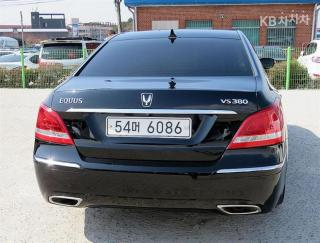0: (156, 120, 165, 135)
4: (123, 120, 132, 135)
5: (114, 120, 123, 133)
6: (146, 120, 156, 135), (174, 121, 184, 135)
8: (165, 120, 174, 136)
plate: (102, 112, 199, 144)
머: (131, 120, 141, 133)
